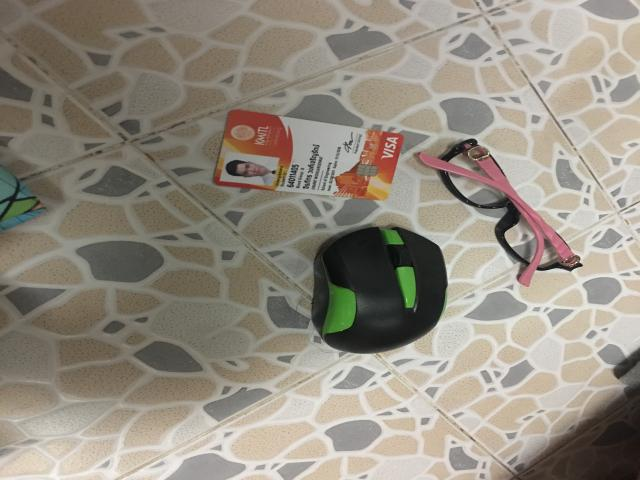Glasses: (418, 143, 580, 286)
Mouse: (312, 227, 447, 353)
